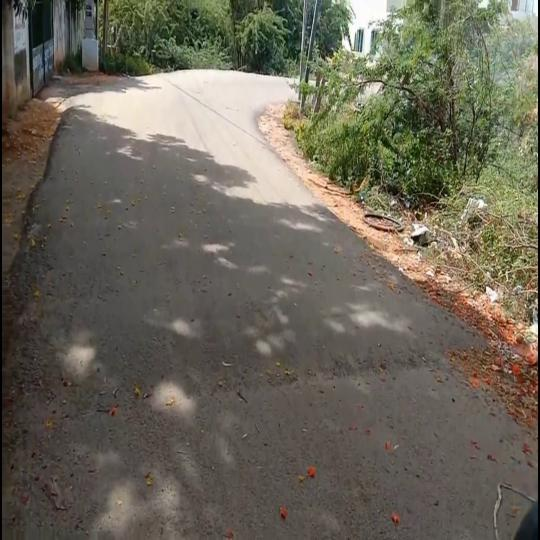Speed Bump: (0, 276, 494, 398)
